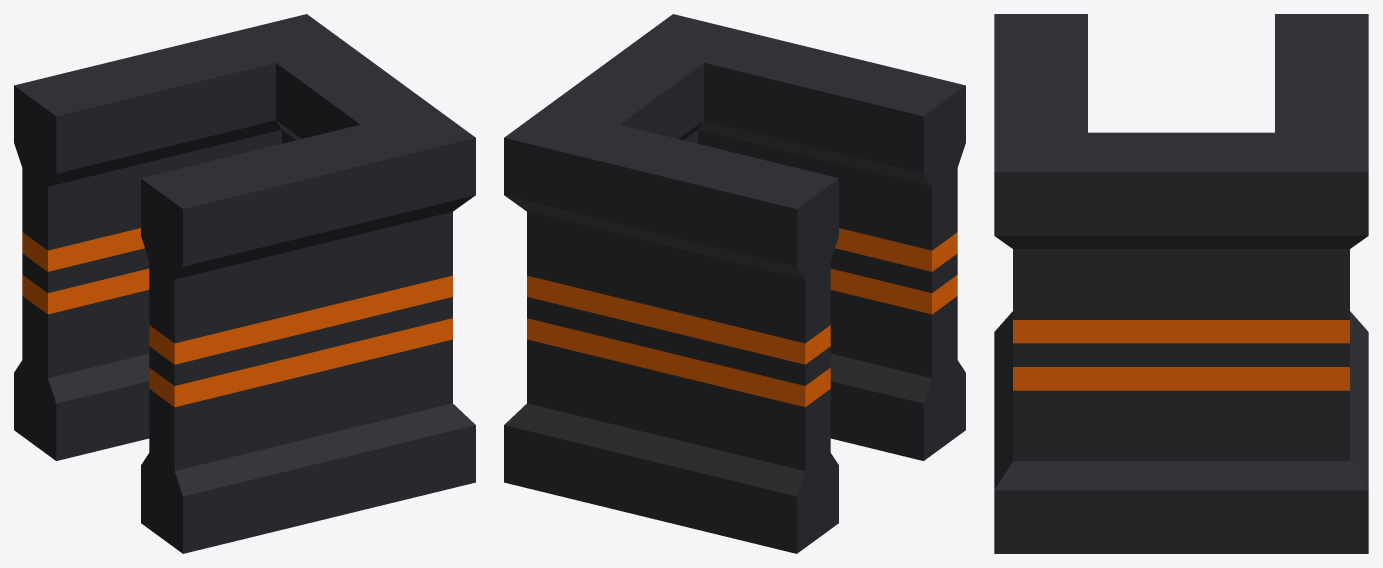
The model's file is Wall_2x2_Corner_U.fbx.
3 views of the same model, side by side, from view 1: azimuth 30°, elevation 25°; view 2: azimuth 150°, elevation 25°; view 3: azimuth 270°, elevation 25° (orthographic). The views are drawn at different scales.
Parts seen in each view (by area): view 1: Wall_2x2_Corner_U; view 2: Wall_2x2_Corner_U; view 3: Wall_2x2_Corner_U.
Part boxes in pixels (x1=…): Wall_2x2_Corner_U: x1=14, y1=14, x2=475, y2=553; Wall_2x2_Corner_U: x1=504, y1=14, x2=965, y2=553; Wall_2x2_Corner_U: x1=994, y1=14, x2=1368, y2=553.
Size of the model in its own units: 200 by 225 by 200.
